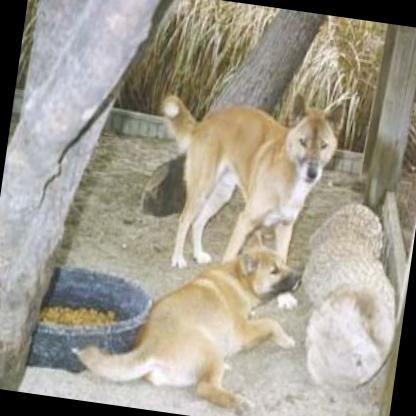dingo: (69, 213, 310, 416), (135, 73, 344, 287)
